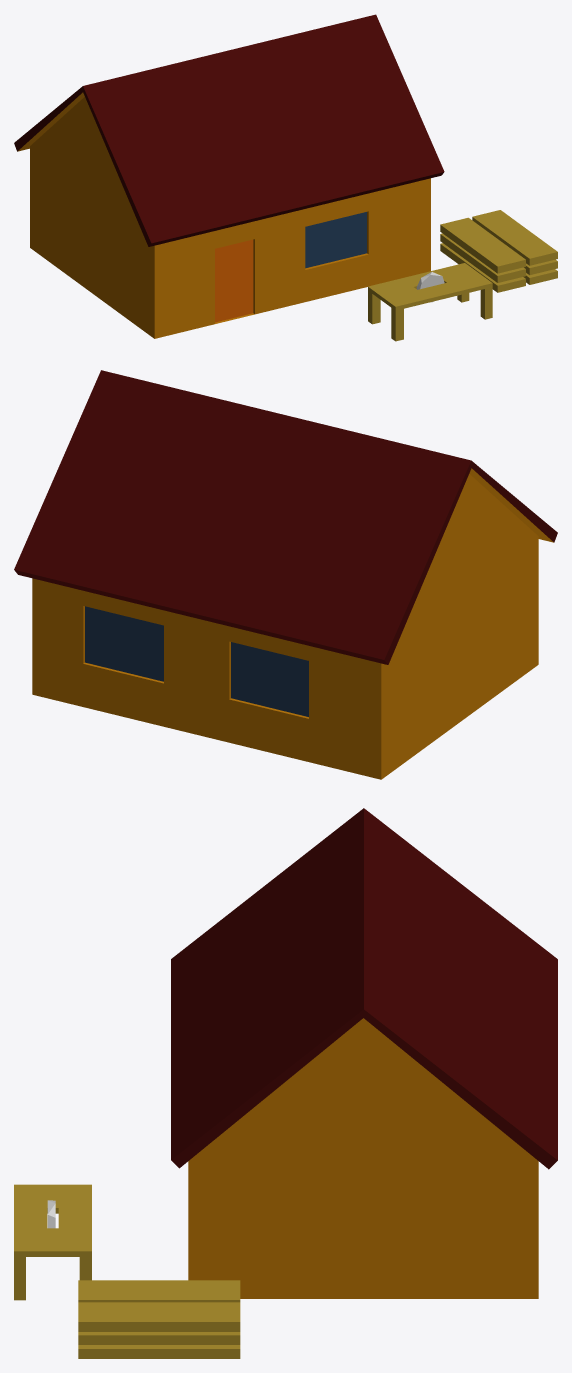
Rendered from Sawmill.fbx.
The picture shows the model from 3 angles, top to bottom: view 1: azimuth 30°, elevation 25°; view 2: azimuth 150°, elevation 25°; view 3: azimuth 270°, elevation 25°; orthographic projection. The views are drawn at different scales.
Visible parts, largest first — view 1: LumberjackHut Lowpoly, Planks, Saw table; view 2: LumberjackHut Lowpoly; view 3: LumberjackHut Lowpoly, Planks, Saw table.
Part boxes in pixels (x1=…): LumberjackHut Lowpoly: x1=14, y1=14, x2=444, y2=338; Planks: x1=440, y1=210, x2=557, y2=292; Saw table: x1=368, y1=263, x2=492, y2=341; LumberjackHut Lowpoly: x1=14, y1=370, x2=557, y2=779; LumberjackHut Lowpoly: x1=171, y1=808, x2=557, y2=1298; Planks: x1=78, y1=1280, x2=240, y2=1358; Saw table: x1=14, y1=1184, x2=91, y2=1300.
Bounding box in the file's own units: 0.5363 × 0.4806 × 0.2887.
